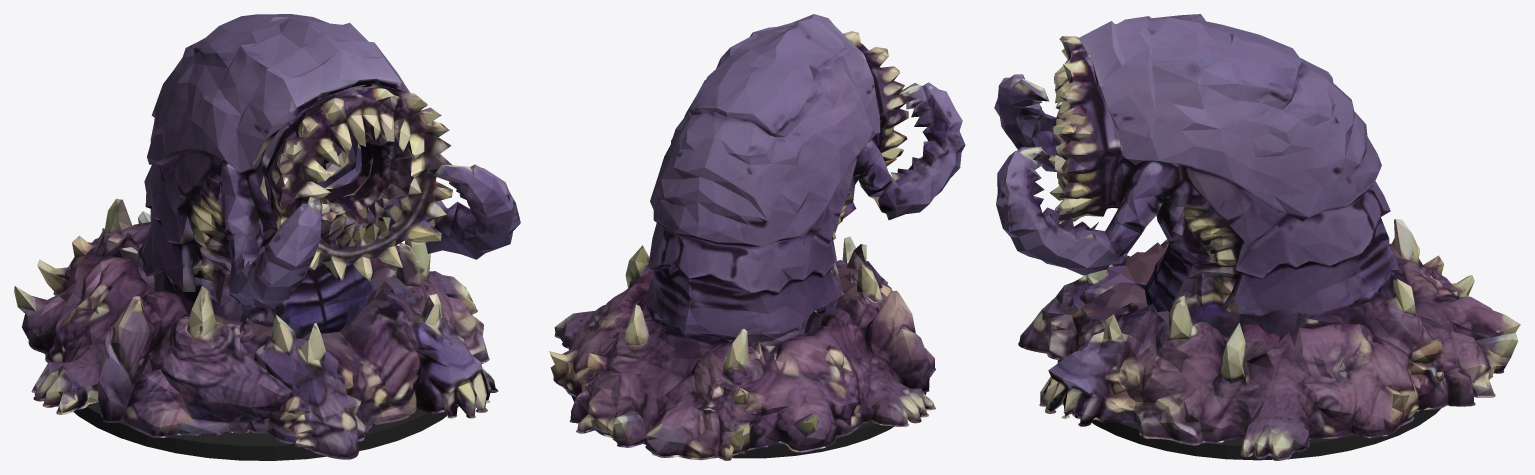
File: omega-worm.glb
The picture shows the model from 3 angles, left to right: view 1: azimuth 30°, elevation 25°; view 2: azimuth 150°, elevation 25°; view 3: azimuth 270°, elevation 25°; orthographic projection. The views are drawn at different scales.
Parts seen in each view (by area): view 1: figure, base; view 2: figure, base; view 3: figure, base.
Boxes of the visible parts, x1=… form: figure: x1=14, y1=14, x2=520, y2=459; base: x1=73, y1=402, x2=458, y2=460; figure: x1=549, y1=14, x2=965, y2=460; base: x1=571, y1=392, x2=926, y2=458; figure: x1=994, y1=14, x2=1520, y2=460; base: x1=1057, y1=360, x2=1440, y2=460.
Size of the model in its own units: 3.69 by 3.12 by 4.15.
Materials: 2 (1 with a texture image).
